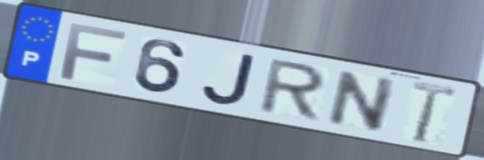6: (134, 38, 187, 96)
F: (57, 21, 130, 83)
J: (199, 52, 260, 108)
N: (323, 68, 401, 135)
R: (254, 57, 331, 123)
T: (409, 78, 459, 145)
